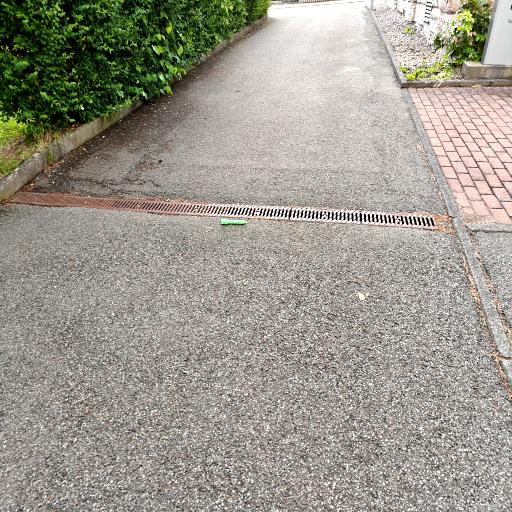Probe-Detection: (221, 219, 246, 225)
